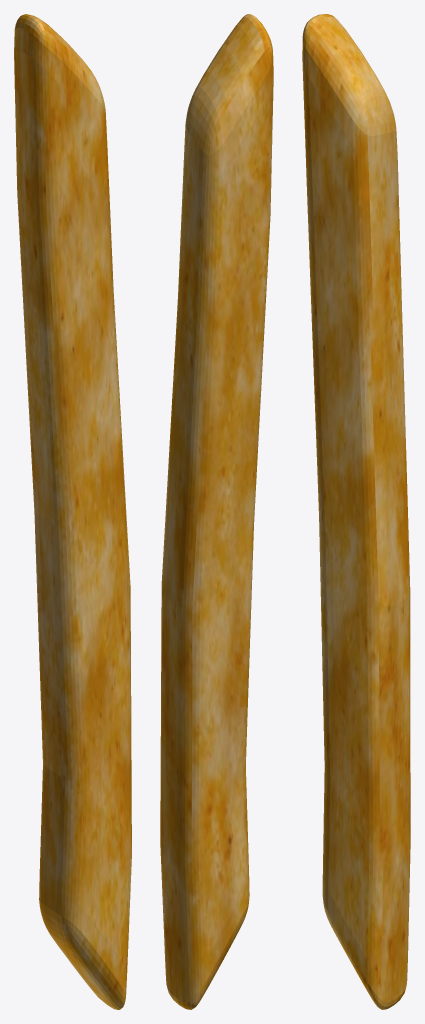
The model's file is Frie.fbx.
3 renders of one model, left to right at view 1: azimuth 30°, elevation 25°; view 2: azimuth 210°, elevation 25°; view 3: azimuth 330°, elevation 25°, orthographic. The views are drawn at different scales.
Parts seen in each view (by area): view 1: Cube; view 2: Cube; view 3: Cube.
Boxes of the visible parts, x1,y1,x2,y2 form: Cube: (14, 14, 131, 1009); Cube: (160, 14, 273, 1009); Cube: (302, 14, 410, 1009).
Size of the model in its own units: 23.11 by 235 by 18.26.
Materials: 1 (1 with a texture image).
